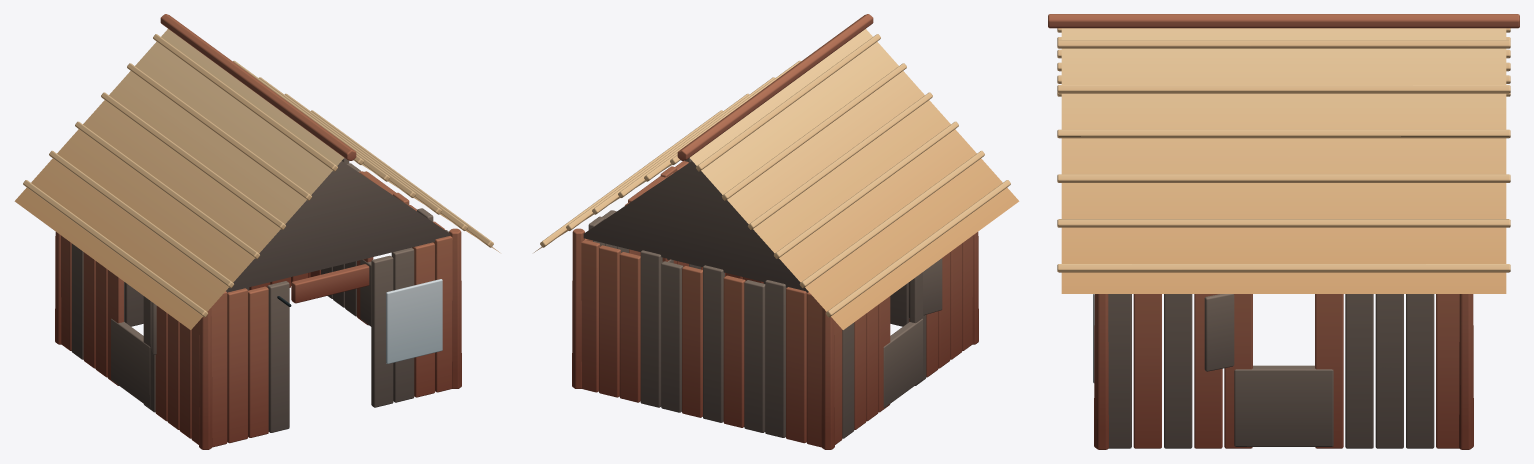
The model's file is stilt_hut.glb.
3 views of the same model, side by side, from view 1: azimuth 30°, elevation 25°; view 2: azimuth 150°, elevation 25°; view 3: azimuth 270°, elevation 25° (orthographic). The views are drawn at different scales.
Parts seen in each view (by area): view 1: stilt_hut; view 2: stilt_hut; view 3: stilt_hut.
Part boxes in pixels (x1=…): stilt_hut: x1=14, y1=14, x2=499, y2=449; stilt_hut: x1=534, y1=14, x2=1019, y2=449; stilt_hut: x1=1048, y1=14, x2=1519, y2=449.
Bounding box in the file's own units: 5 × 4.33 × 5.2.
1 material, 1 textured.
